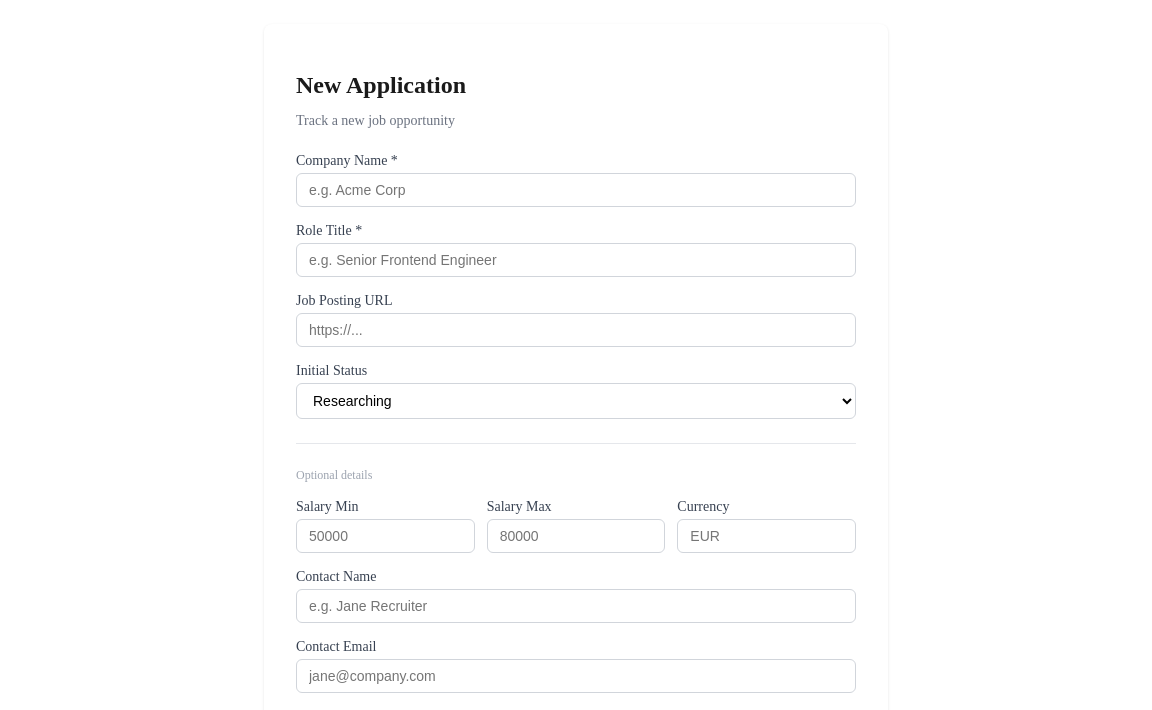
Test: NewApplicationPage › submits successfully when required fields are filled
Type "NewCo" into the field labelled "Company Name *" at (576, 190), box [296,173,856,207]
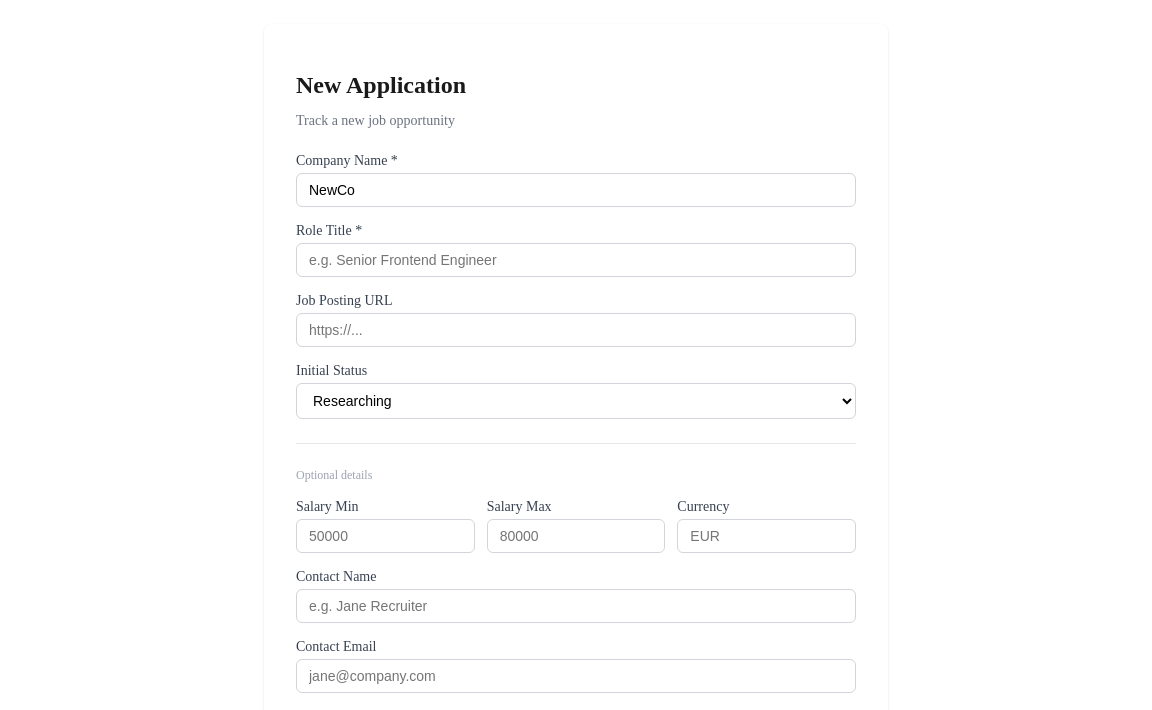
Type "Full Stack Dev" into the field labelled "Role Title *" at (576, 260), box [296,243,856,277]
(page scrolled)
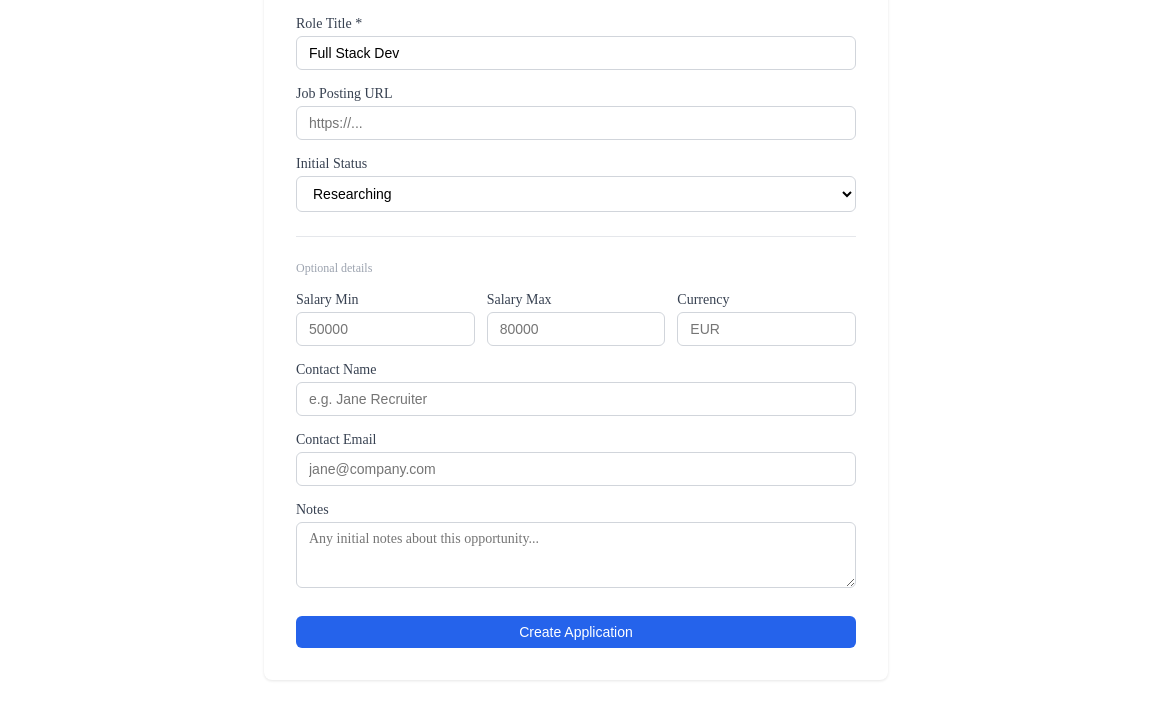
Click the button "Create Application" at (576, 632), box [296,616,856,648]
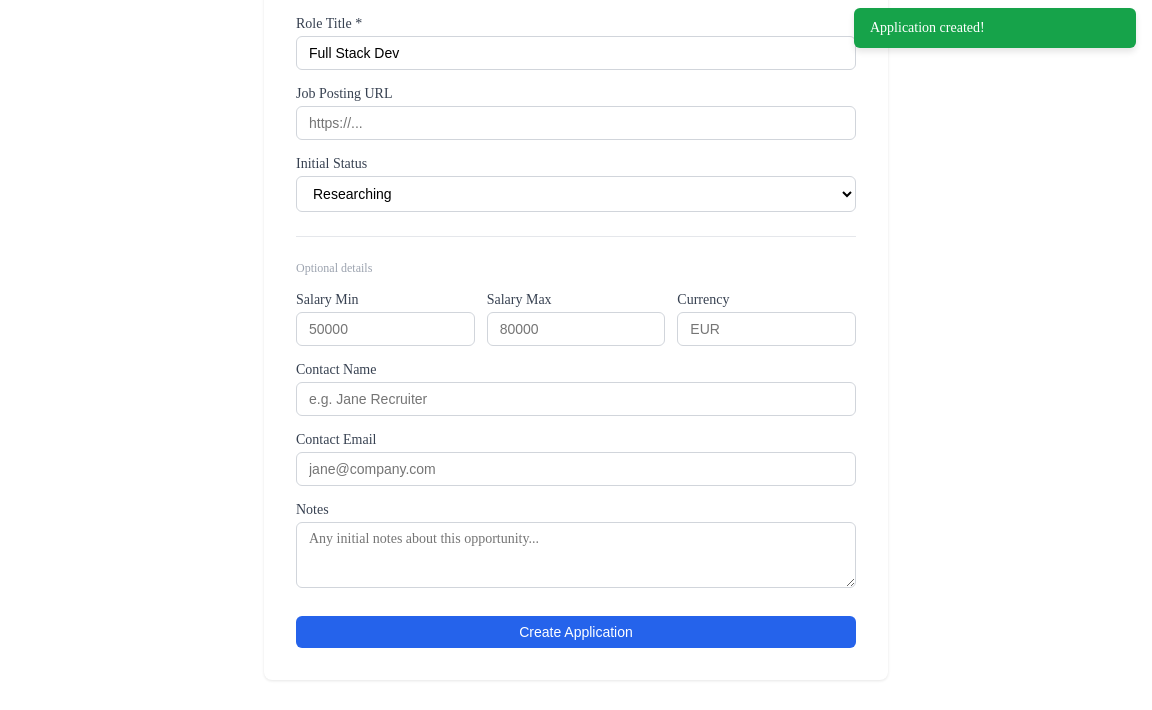
Now the text "Application created!" is shown, box [854,8,1136,48]
